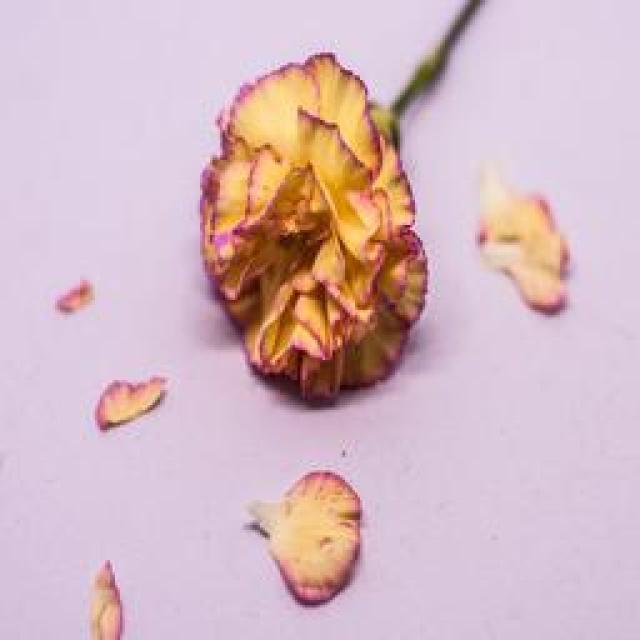carnation: (200, 38, 466, 394)
